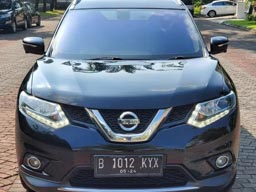plat: (94, 155, 164, 168)
